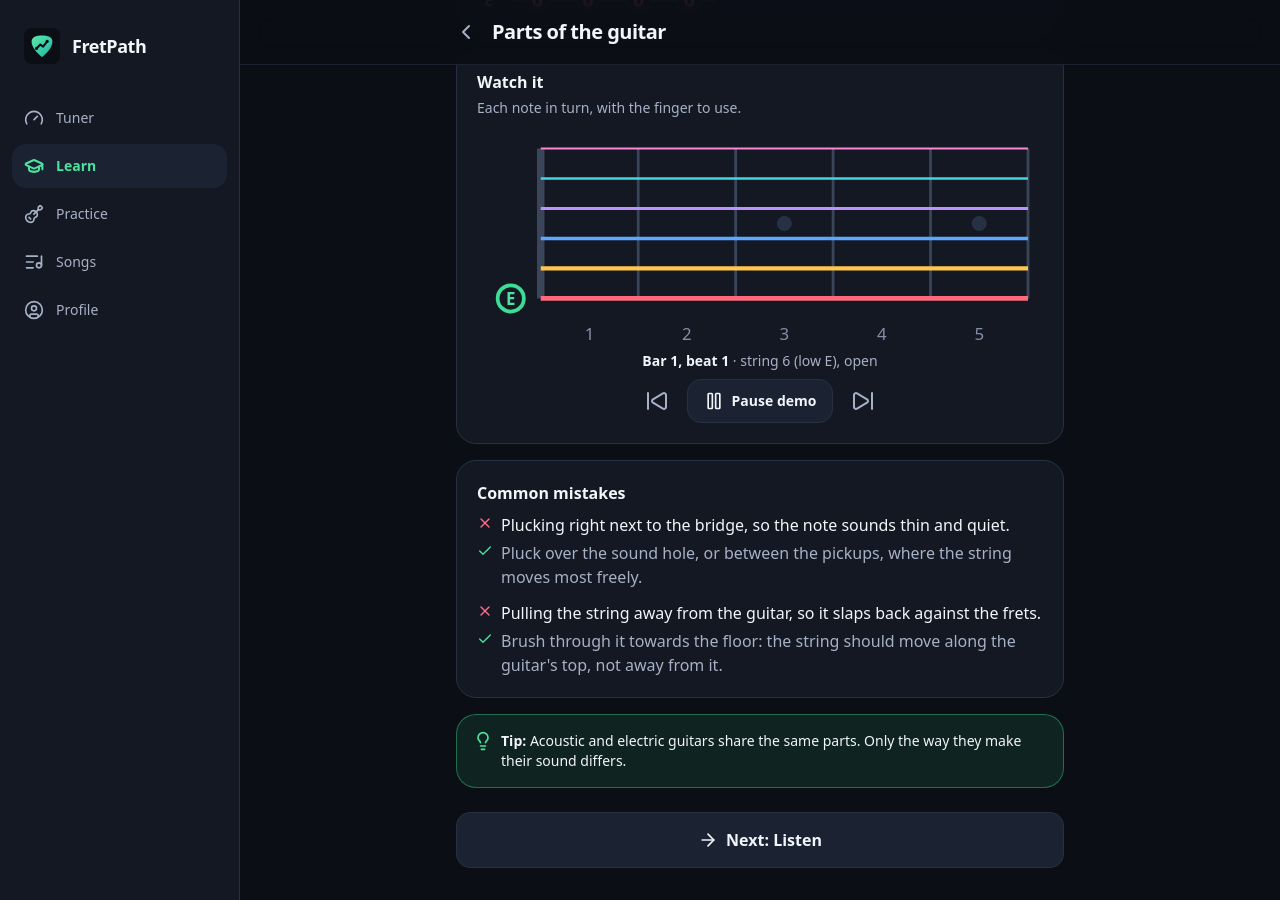
Learn screens › walks through Learn, Listen, Practice and Check
This screenshot has width=1280, height=900.
(page scrolled)
Expected: the heading "Parts of the guitar" is shown, [492,18,666,45]
Expected: the heading "Common mistakes" is shown, [477,482,626,504]
What coordinates should you click on to do the following:
click the link "Next: Listen"
I would click on:
 (760, 840)
Its box is [456,812,1064,868].
(page scrolled)
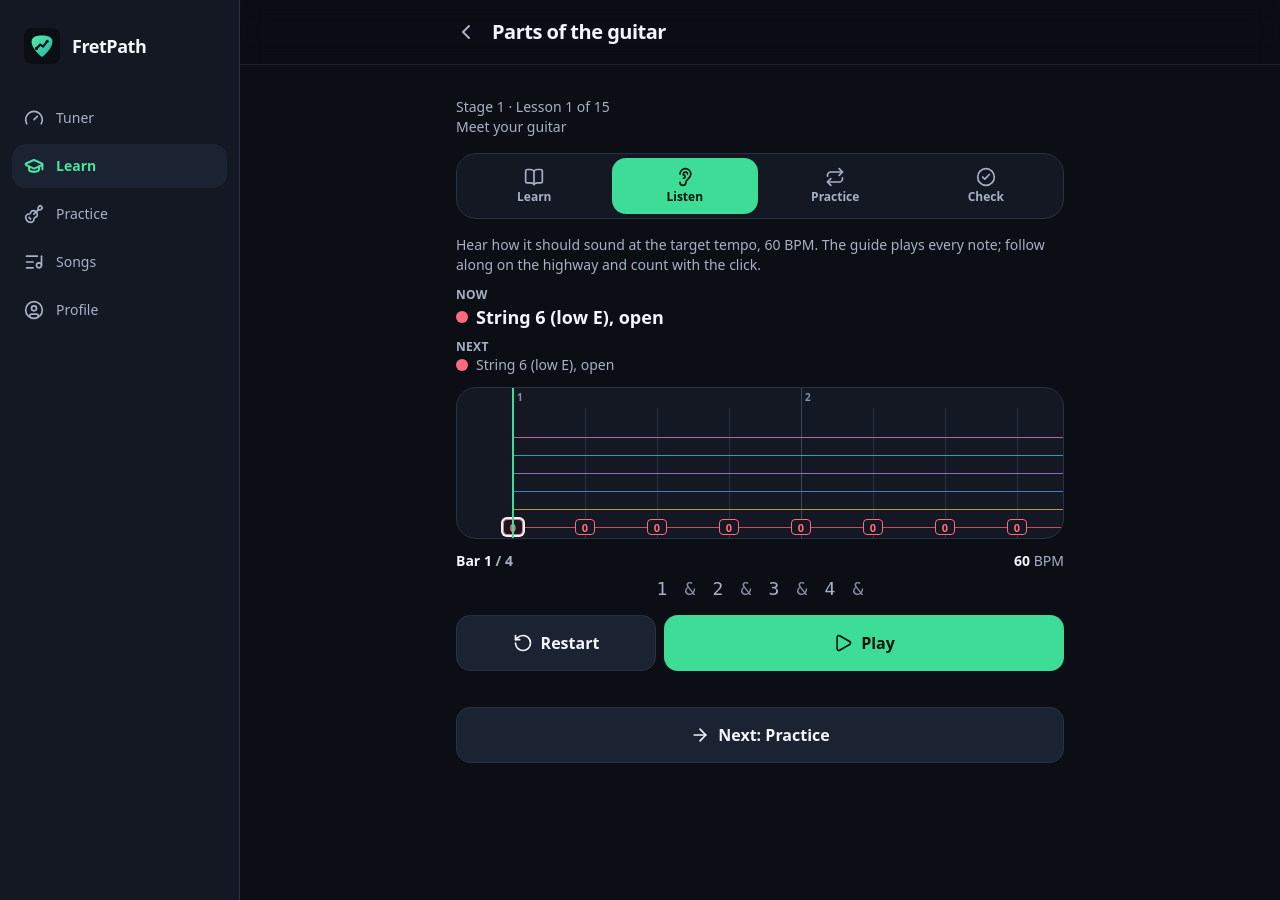
Expected: the text "Hear how it should sound" is shown, [456,235,764,254]
What coordinates should you click on to do the following:
click the link "Next: Practice"
I would click on:
 (760, 735)
Its box is [456,707,1064,763].
(page scrolled)
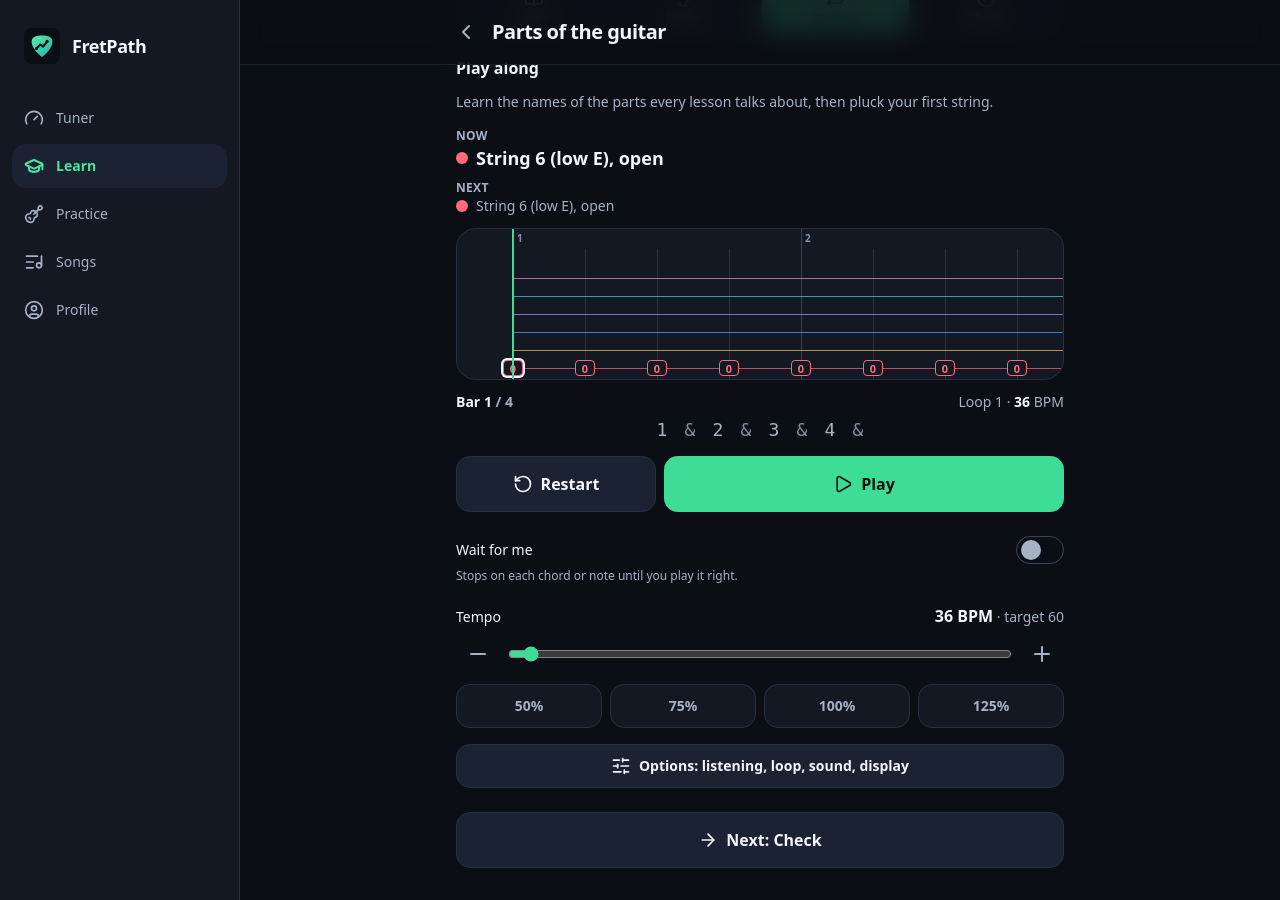
Expected: the button "Play" is shown, [664,456,1064,512]
Expected: the heading "Play along" is shown, [456,57,539,79]
What coordinates should you click on to do the following:
click the link "Next: Check"
I would click on:
 (760, 840)
Its box is [456,812,1064,868].
(page scrolled)
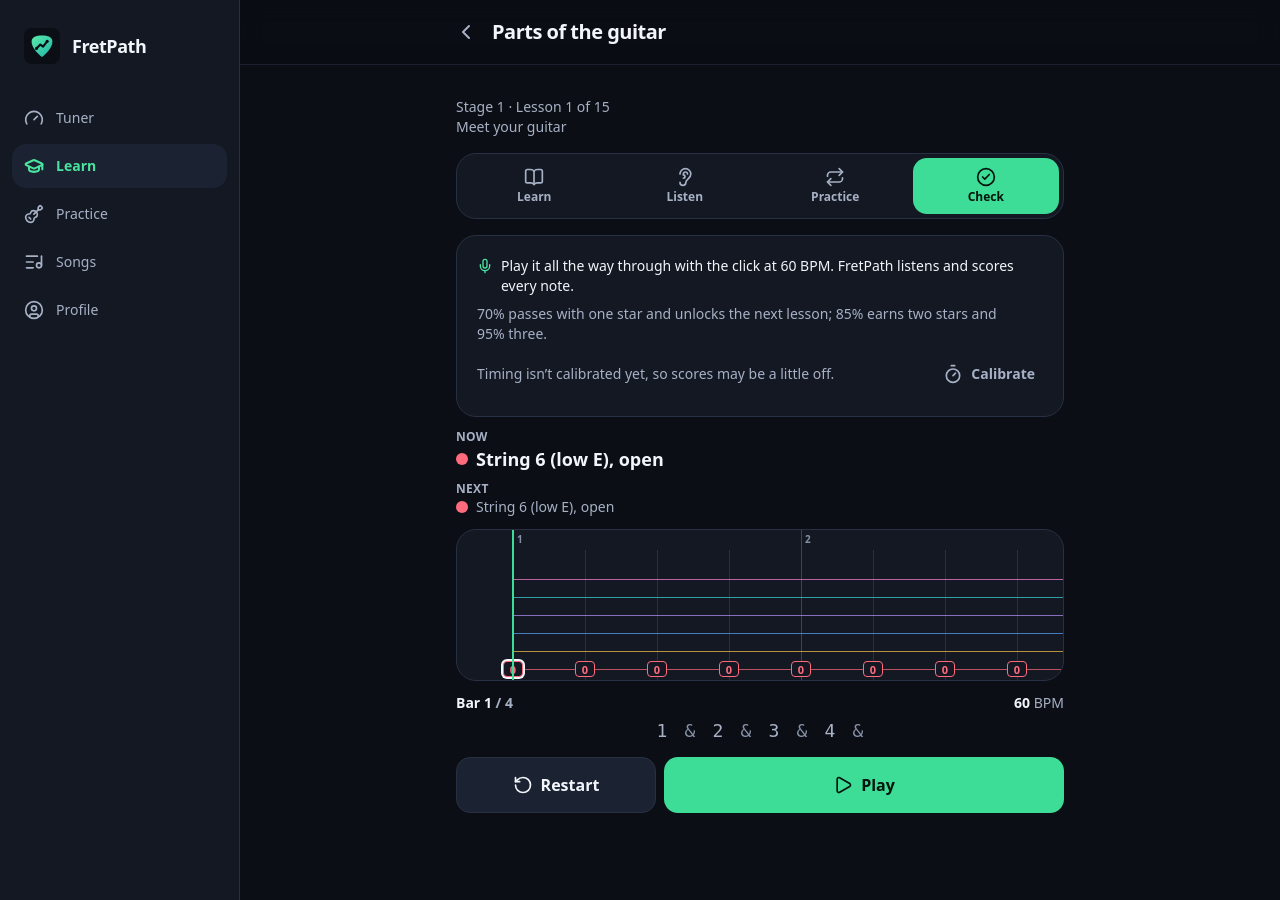
Expected: the text "passes with one star" is shown, [505,304,832,323]
Expected: the link "Next:" is gone
